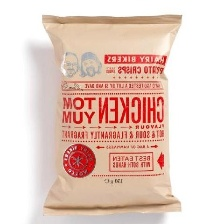snack: (34, 8, 188, 221)
